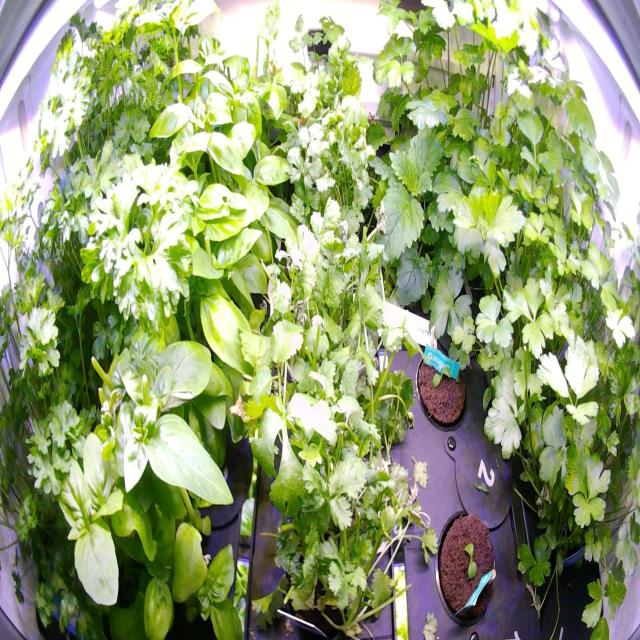germination: (428, 500, 504, 628), (409, 339, 473, 432)
